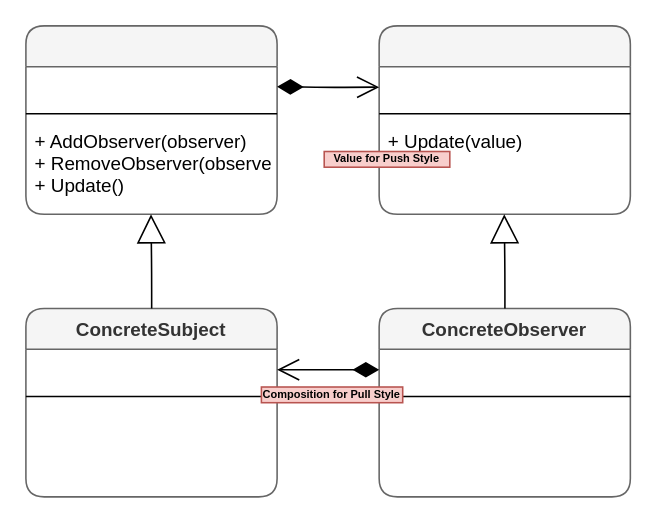
Some shapes in this 656 by 523 pixel diagram are drawn without their labels. The shapes that lost their labels are listed below. From the top down, each one's box as (x1, y1, x2, y2) in pixels, then its label:
(24, 24, 277, 214): Subject
(378, 24, 630, 214): Observer
